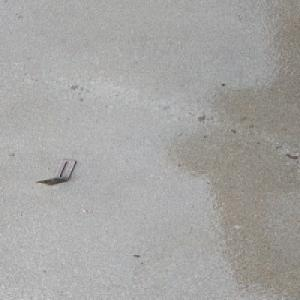MetalPart: (34, 158, 78, 186)
